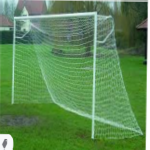goals: (9, 10, 144, 140)
